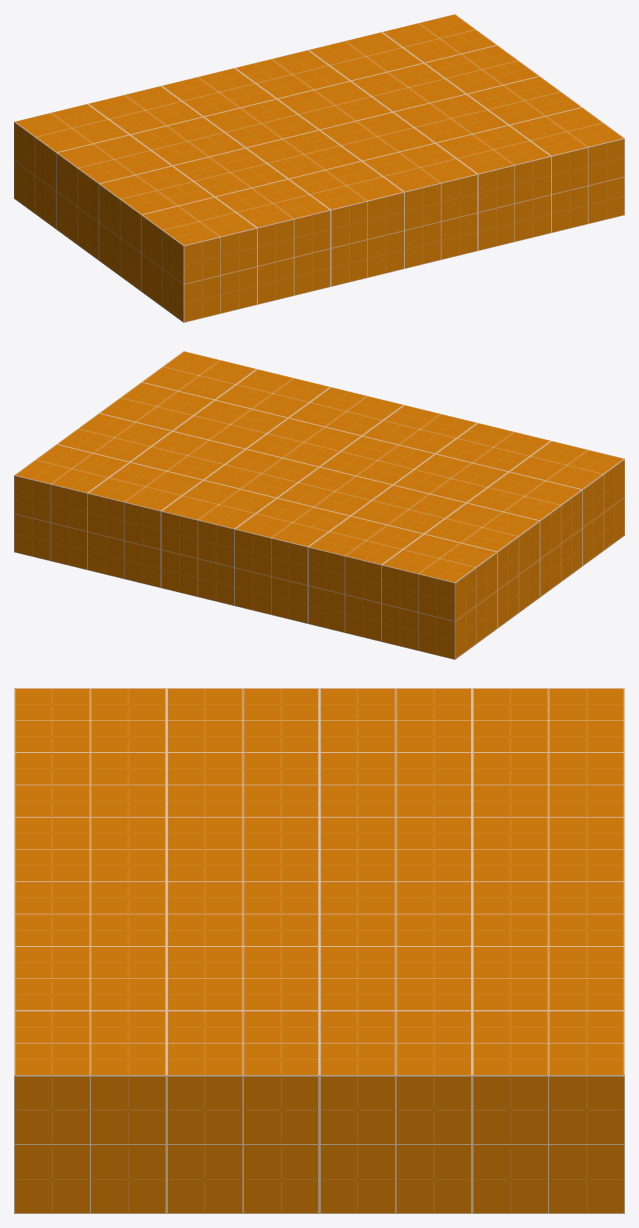
The model's file is Block_6x4x1.obj.
3 renders of one model, top to bottom at view 1: azimuth 30°, elevation 25°; view 2: azimuth 150°, elevation 25°; view 3: azimuth 270°, elevation 25°, orthographic. The views are drawn at different scales.
Parts seen in each view (by area): view 1: Block_6x4x1_Cube.212; view 2: Block_6x4x1_Cube.212; view 3: Block_6x4x1_Cube.212.
Part boxes in pixels (x1,y1,x2,y2): Block_6x4x1_Cube.212: (14, 14, 624, 322); Block_6x4x1_Cube.212: (14, 351, 624, 659); Block_6x4x1_Cube.212: (14, 688, 624, 1213).
Size of the model in its own units: 6 by 1 by 4.
Materials: 1 (1 with a texture image).
